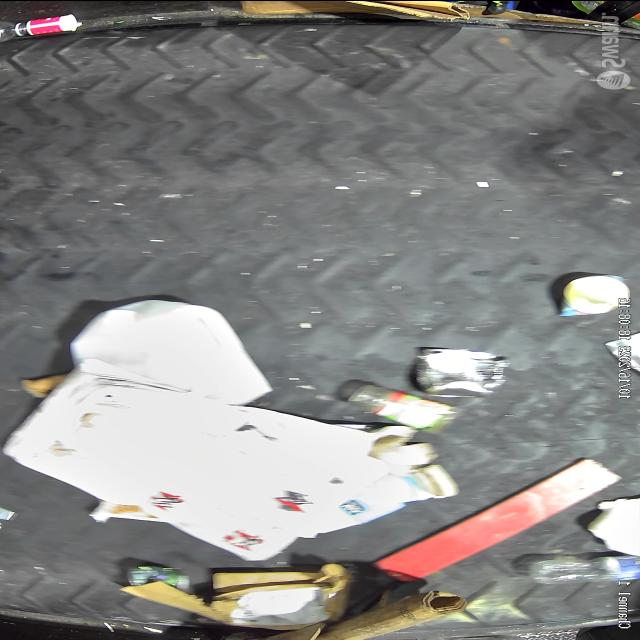milk_jug: (72, 302, 280, 407)
plastic_bottle: (529, 550, 640, 584)
